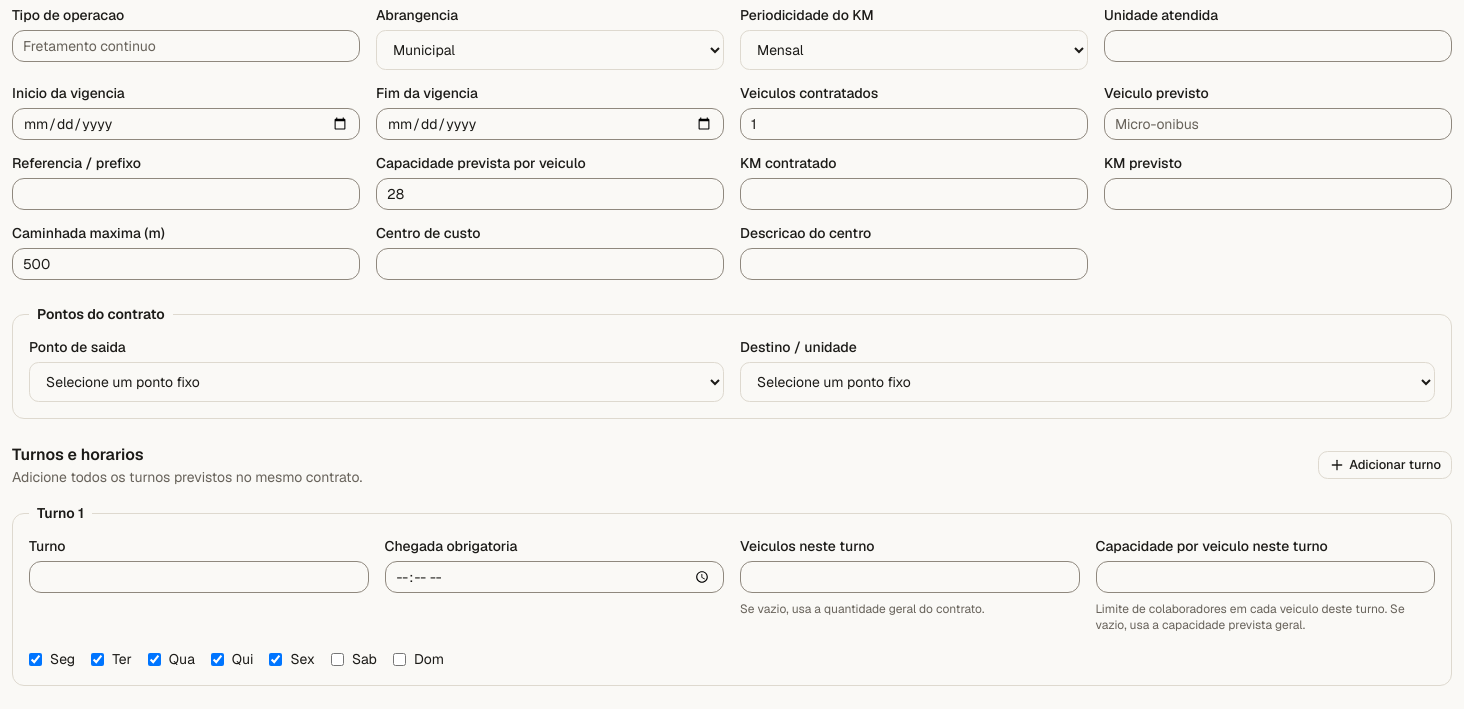
Test: ContractCreationForm › supports several shifts and explains capacity per vehicle
Check: the text "Turno 1" is shown, box x1=37 y1=504 x2=84 y2=522
Check: the text "Limite de colaboradores em cada veiculo deste turno" is shown, box x1=1096 y1=601 x2=1405 y2=633
Click the button "Adicionar turno".
click(1385, 465)  # box x1=1318 y1=451 x2=1452 y2=479
(page scrolled)
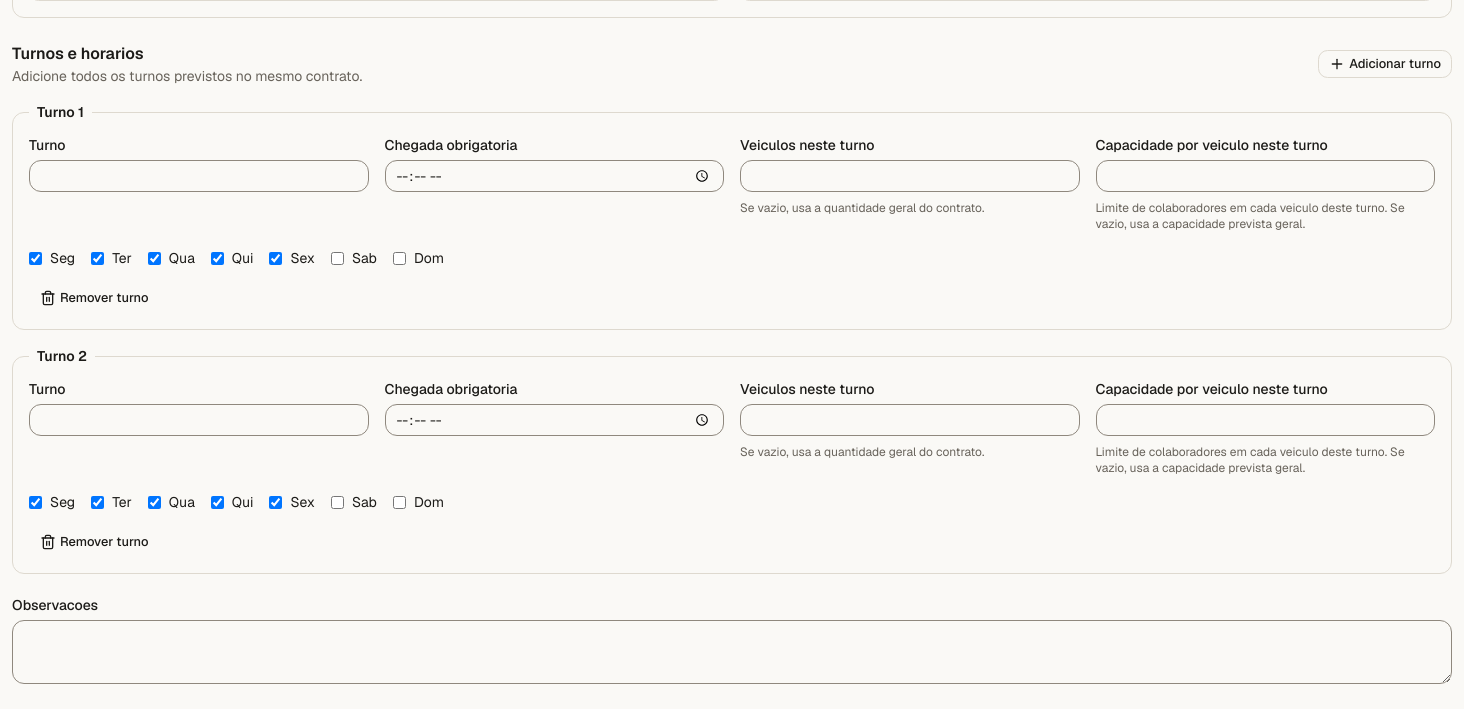
Check: the number of number fields labelled "Capacidade por veiculo neste turno" is 2, box x1=1096 y1=160 x2=1435 y2=192; x1=1096 y1=404 x2=1435 y2=436
Check: the text "Turno 2" is shown, box x1=37 y1=347 x2=87 y2=365
